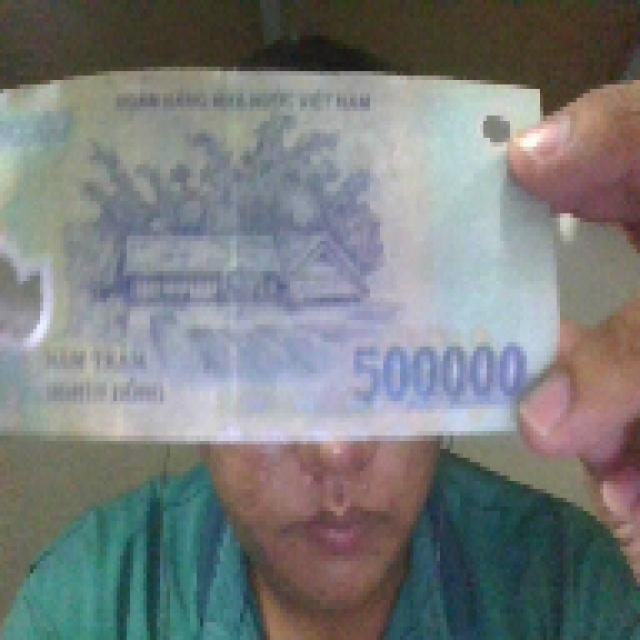500 000 VND: (0, 57, 563, 444)
